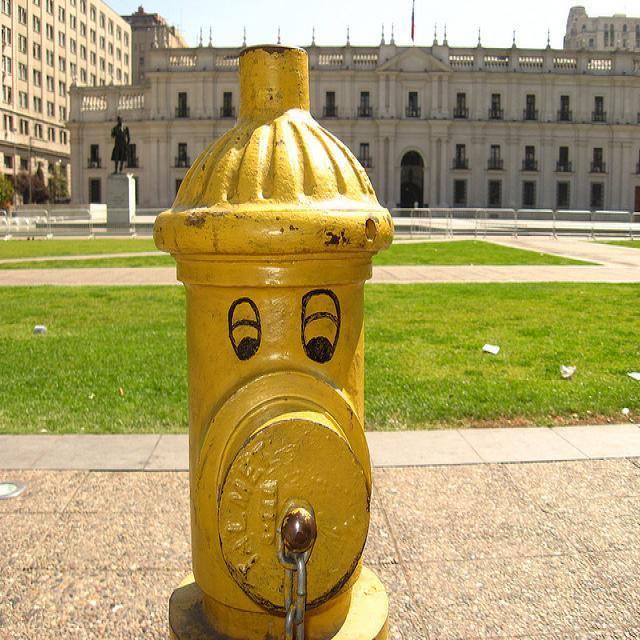fire_hydrant: (152, 42, 394, 638)
